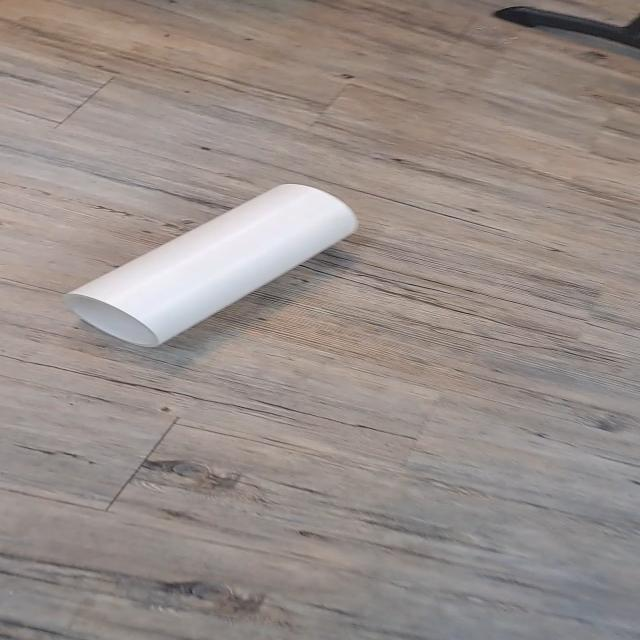CORAL: (69, 177, 371, 364)
